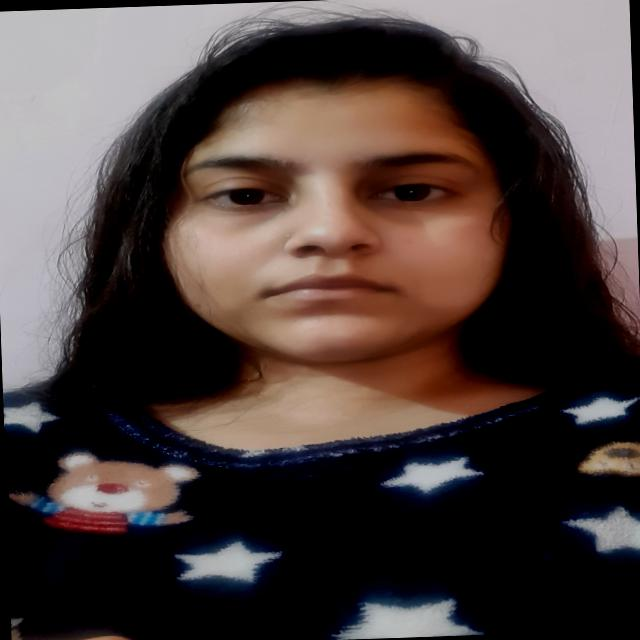eyebrow: (358, 148, 487, 173), (190, 155, 286, 172)
